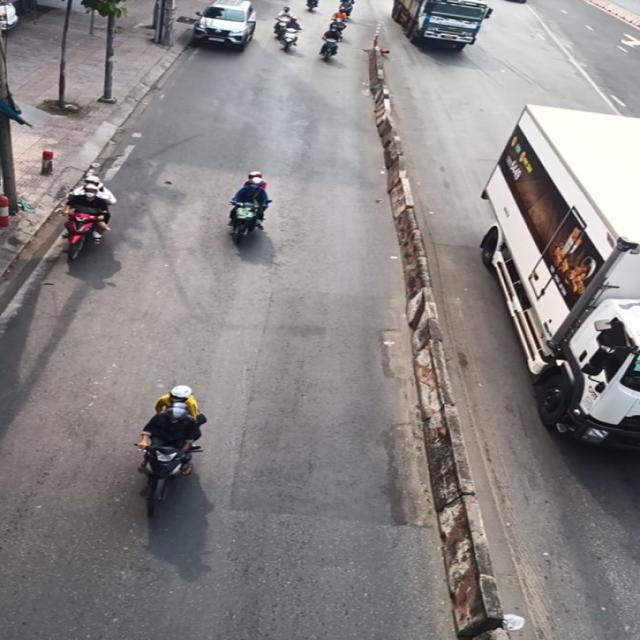motor: (113, 383, 215, 527), (42, 174, 137, 281), (217, 162, 274, 244)
